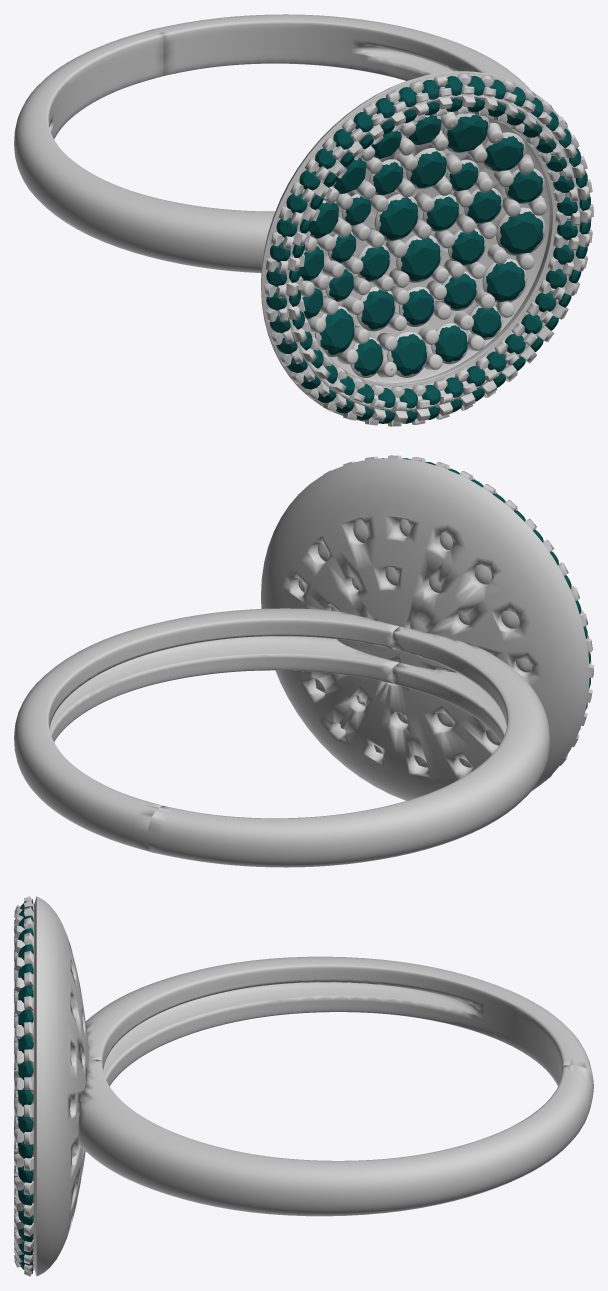
The model's file is demo001.obj.
The picture shows the model from 3 angles, top to bottom: view 1: azimuth 30°, elevation 25°; view 2: azimuth 150°, elevation 25°; view 3: azimuth 270°, elevation 25°; orthographic projection.
Parts seen in each view (by area): view 1: metal0, jewel85, jewel89, jewel93, jewel84, jewel111, jewel106, jewel88, jewel92, jewel107, jewel98, jewel86 (+18 smaller); view 2: metal0; view 3: metal0.
Part boxes in pixels (x1,y1,x2,y2): metal0: (14,14,593,426); jewel85: (500,211,543,254); jewel89: (401,237,440,281); jewel93: (379,197,417,240); jewel84: (486,261,525,301); jewel111: (319,308,354,355); jewel106: (447,115,488,152); jewel88: (391,334,426,375); jewel92: (361,289,394,329); jewel107: (484,136,523,171); jewel98: (410,151,446,188); jewel86: (434,325,467,362); metal0: (14,455,593,867); metal0: (14,896,593,1276).
Bounding box in the file's own units: 207 × 146 × 223.
